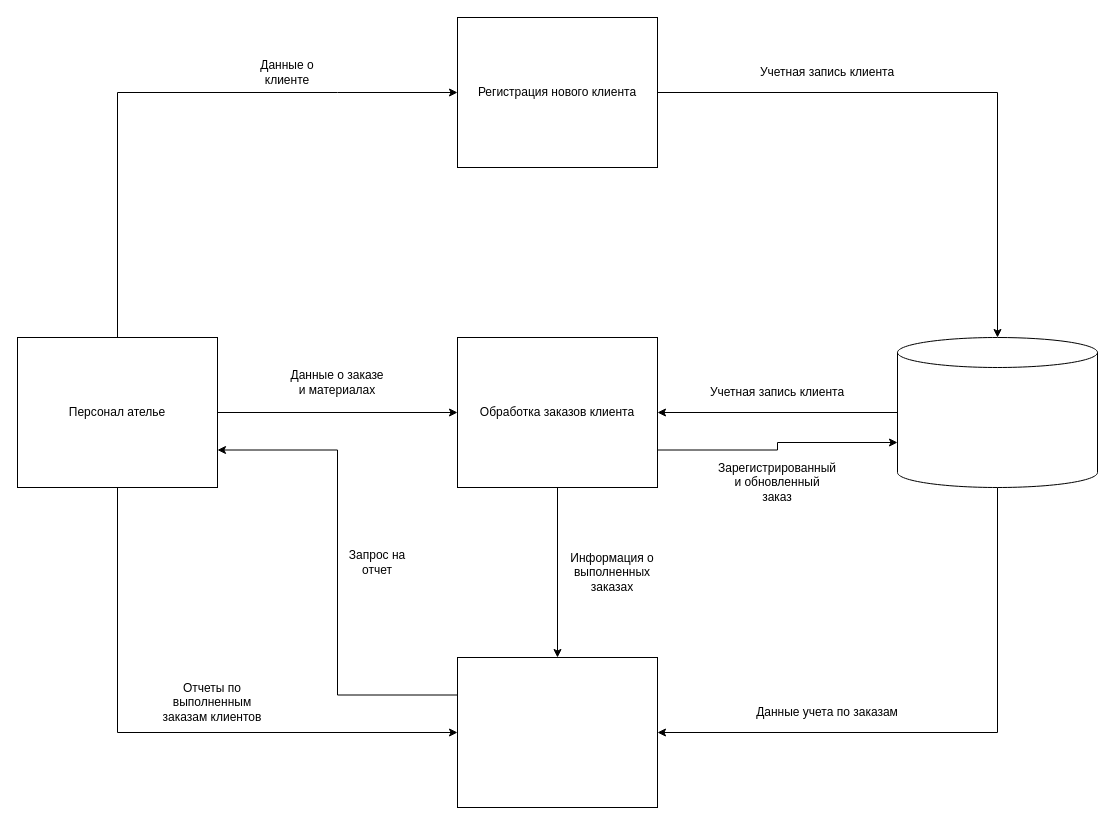
Some shapes in this 1115 by 825 pixel diagram are drawn without their labels. Here are the shapes that lost their labels. From the top down, the centre of each, then its label:
At point (997, 412): "База данных клиентов и заказов".
At point (557, 732): "Формирование отчетов".
